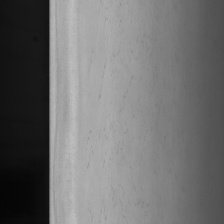silk_spot: (80, 10, 152, 204)
